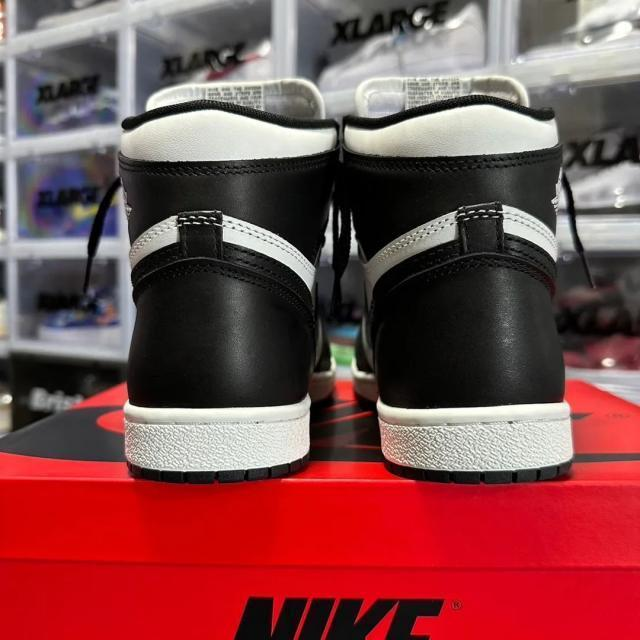nike original jordan 1: (119, 66, 339, 482), (356, 69, 572, 484)
